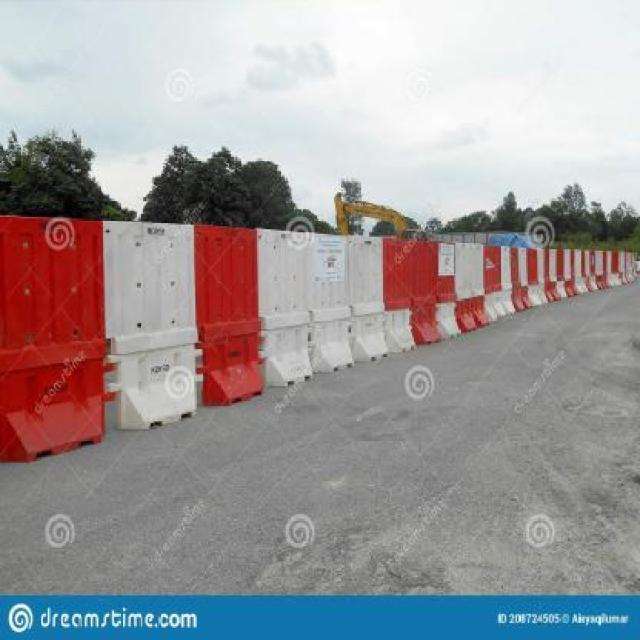fallen_object: (80, 196, 213, 421), (0, 182, 106, 454), (176, 209, 323, 401), (299, 216, 412, 369), (479, 236, 640, 308), (392, 233, 490, 340)
